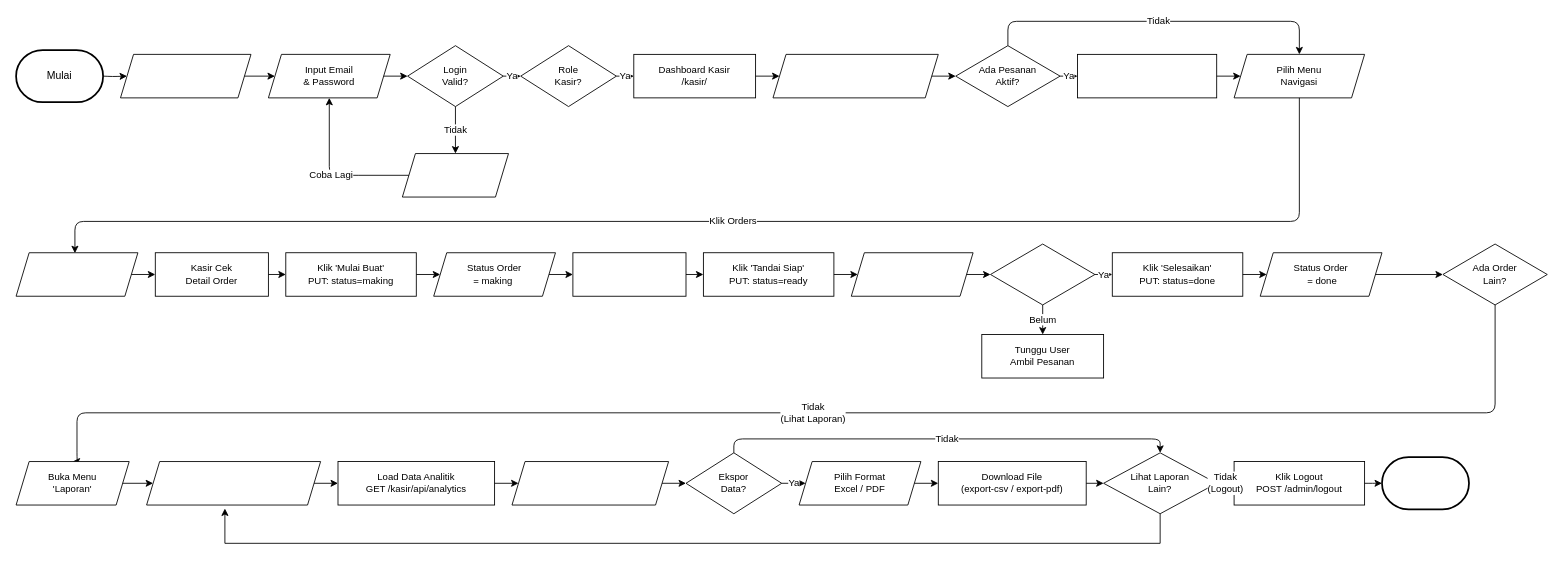
This 1563x566 diagram has some shape labels left out. Each missing label, with the centre of its shape:
"Barista Proses Pesanan" belongs at [629,274].
"Buka Halaman Login /kasir/login" belongs at [185,76].
"Order Masuk (Status: paid)" belongs at [76,274].
"Pilih Rentang Waktu (Hari/Minggu/Bulan/Custom)" belongs at [233,483].
"Selesai" belongs at [1425,483].
"Status Order = ready" belongs at [911,274].
"Tampil Notifikasi Bell + Badge Aktif" belongs at [1147,76].
"Tampil Statistik (Order, Pendapatan, Aktif)" belongs at [855,76].
"Tampil Summary Cards & Grafik Pendapatan" belongs at [590,483].
"Tampilkan Pesan Error" belongs at [455,175].
"User Sudah Ambil?" belongs at [1042,274].
